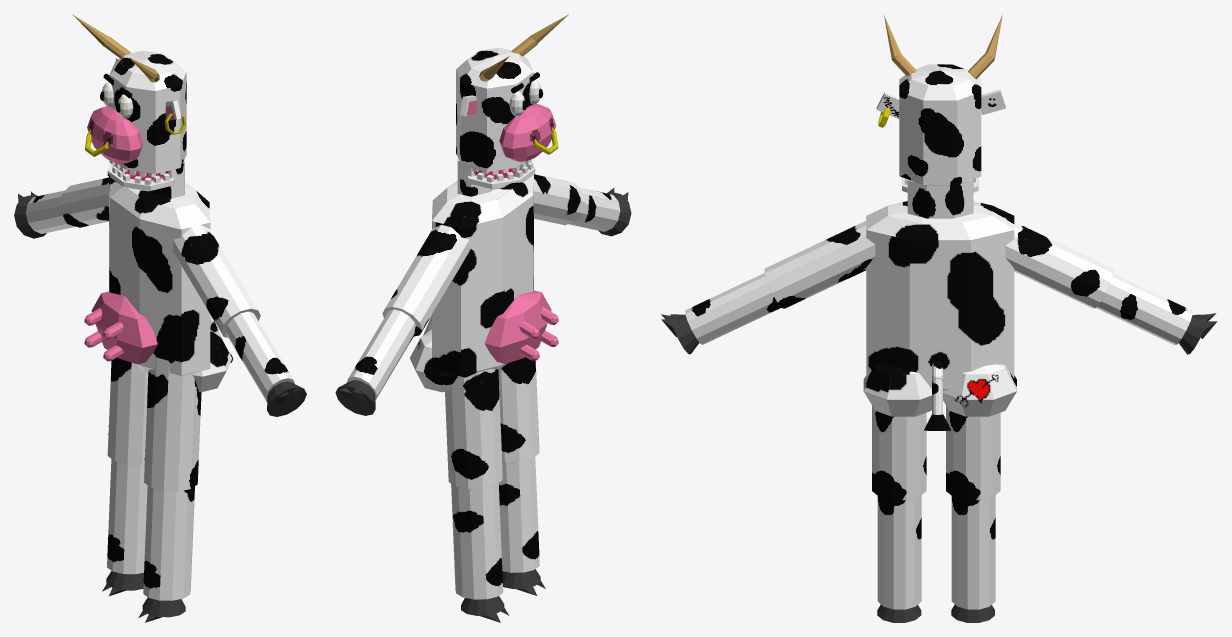
Rendered from Cow.fbx.
3 views of the same model, side by side, from view 1: azimuth 30°, elevation 25°; view 2: azimuth 150°, elevation 25°; view 3: azimuth 270°, elevation 25° (orthographic).
Parts seen in each view (by area): view 1: Chest, Biceps_3, Forearm_3, Biceps_1, Face, Forearm_2, Biceps_2, Shoulder, Forearm_1, Breast, Nose, Brain (+9 smaller); view 2: Chest, Biceps_2, Forearm_2, Face, Biceps, Forearm_3, Biceps_3, Shoulder, Forearm, Breast, Nose, Biceps_1 (+9 smaller); view 3: Chest, Face, Biceps_1, Forearm_2, Forearm_3, Biceps, Biceps_3, Biceps_2, Shoulder, Forearm, Forearm_1, ButtLeft (+3 smaller).
Boxes of the visible parts, bbox=[...] form: Chest: bbox=[109, 183, 210, 375]; Biceps_3: bbox=[144, 357, 201, 491]; Forearm_3: bbox=[143, 485, 194, 600]; Biceps_1: bbox=[173, 225, 260, 337]; Face: bbox=[109, 72, 186, 173]; Forearm_2: bbox=[107, 459, 147, 574]; Biceps_2: bbox=[107, 357, 148, 464]; Shoulder: bbox=[109, 177, 210, 229]; Forearm_1: bbox=[225, 311, 294, 401]; Breast: bbox=[91, 291, 157, 364]; Nose: bbox=[87, 106, 143, 163]; Brain: bbox=[109, 50, 186, 91]; Chest: bbox=[432, 183, 533, 375]; Biceps_2: bbox=[445, 369, 502, 489]; Forearm_2: bbox=[451, 483, 503, 599]; Face: bbox=[456, 70, 533, 171]; Biceps: bbox=[382, 225, 469, 336]; Forearm_3: bbox=[498, 456, 539, 572]; Biceps_3: bbox=[498, 357, 539, 462]; Shoulder: bbox=[432, 175, 533, 228]; Forearm: bbox=[346, 309, 416, 400]; Breast: bbox=[484, 290, 551, 363]; Nose: bbox=[499, 103, 555, 161]; Biceps_1: bbox=[534, 174, 584, 225]; Chest: bbox=[866, 230, 1014, 389]; Face: bbox=[899, 92, 981, 184]; Biceps_1: bbox=[764, 221, 875, 308]; Forearm_2: bbox=[951, 495, 995, 609]; Forearm_3: bbox=[877, 495, 921, 609]; Biceps: bbox=[1005, 222, 1113, 308]; Biceps_3: bbox=[872, 399, 926, 500]; Biceps_2: bbox=[946, 399, 1000, 500]; Shoulder: bbox=[866, 201, 1014, 240]; Forearm: bbox=[1096, 273, 1192, 345]; Forearm_1: bbox=[685, 273, 781, 344]; ButtLeft: bbox=[943, 364, 1016, 416].
Size of the model in its own units: 377 by 1476 by 1272.
Materials: 30 (30 with a texture image).
